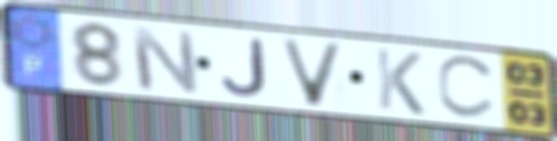8: (66, 20, 128, 89)
C: (434, 54, 500, 122)
J: (219, 37, 271, 100)
K: (372, 45, 428, 118)
N: (127, 23, 203, 97)
V: (276, 36, 349, 109)
